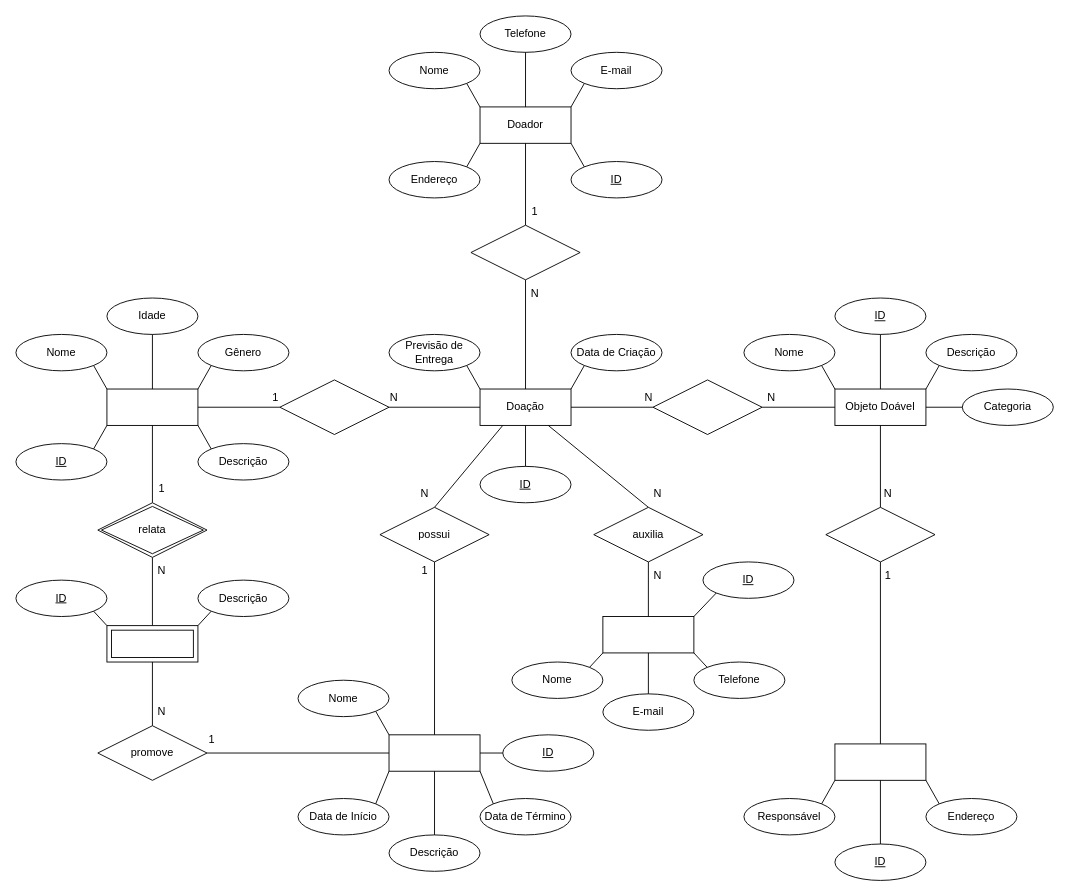
Image size: 1069x896. Some labels were removed from this diagram. Here are the shapes that lost their labels. From the top down, the centre of each, then its label:
At [525,252]: "realiza".
At [152,406]: "Beneficiário".
At [334,407]: "recebe".
At [707,407]: "contém".
At [880,534]: "armazena".
At [152,643]: "Necessidade".
At [648,634]: "Voluntário".
At [434,752]: "Campanhas de Doação".
At [880,761]: "Ponto de Coleta".
